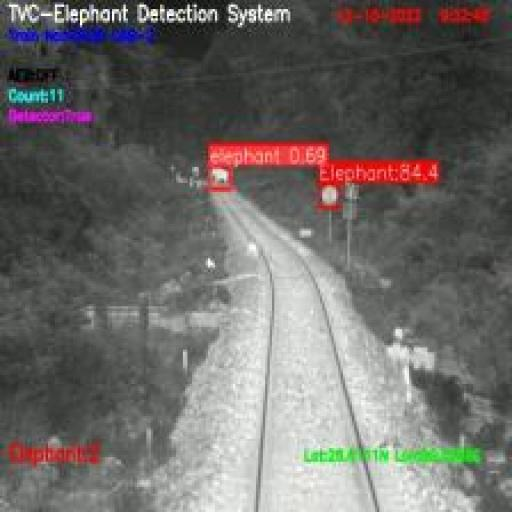Elephant: (210, 164, 231, 191)
